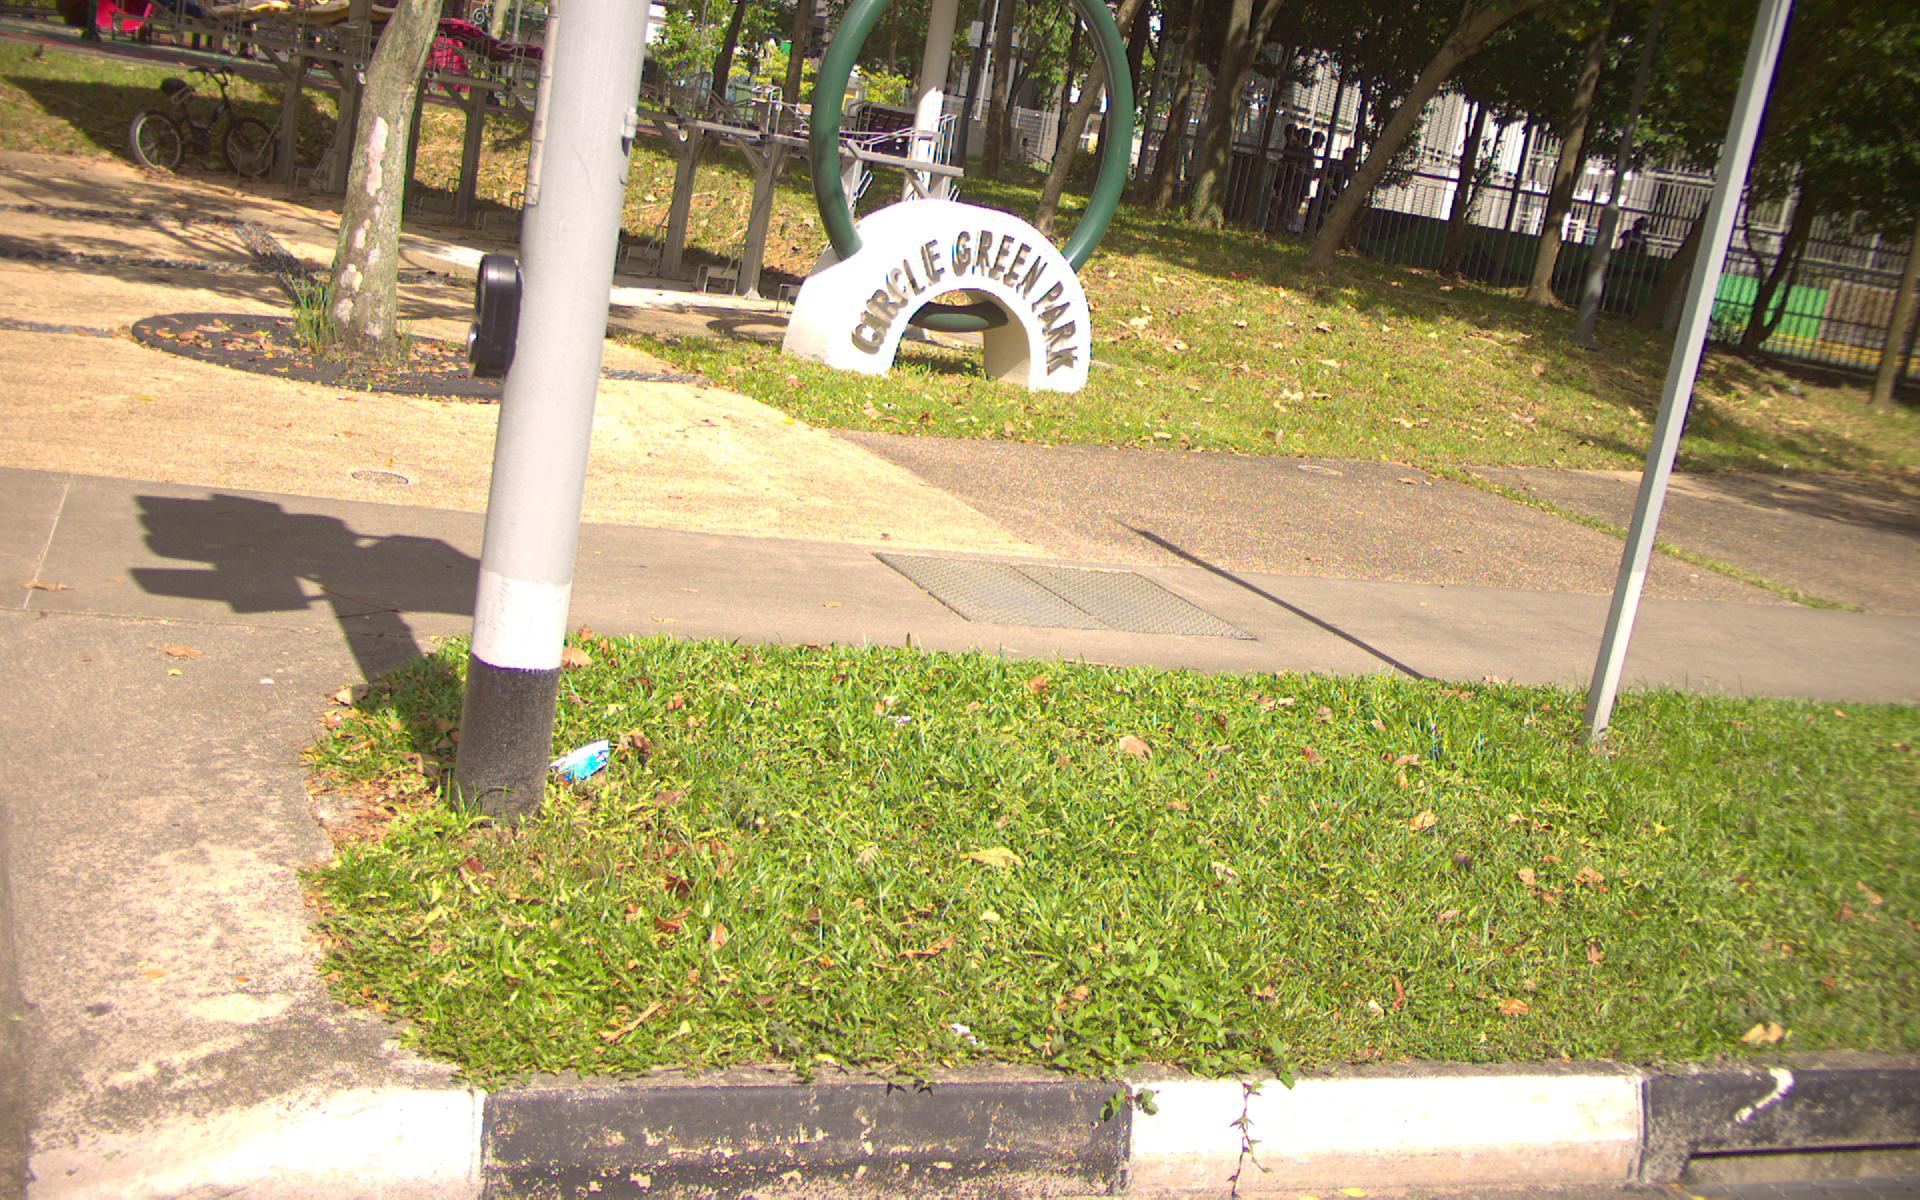curb_dic_low: (1663, 1088, 1920, 1200)
pathway_low: (232, 466, 1920, 637), (4, 160, 315, 1088)
road_turf_low: (434, 705, 1920, 1055), (1122, 232, 1673, 455)
